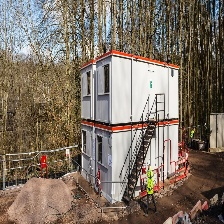helmet: (147, 160, 151, 167), (193, 127, 195, 132)
person: (144, 160, 158, 216), (189, 128, 196, 148)
vest: (147, 169, 154, 195), (190, 130, 194, 139)
